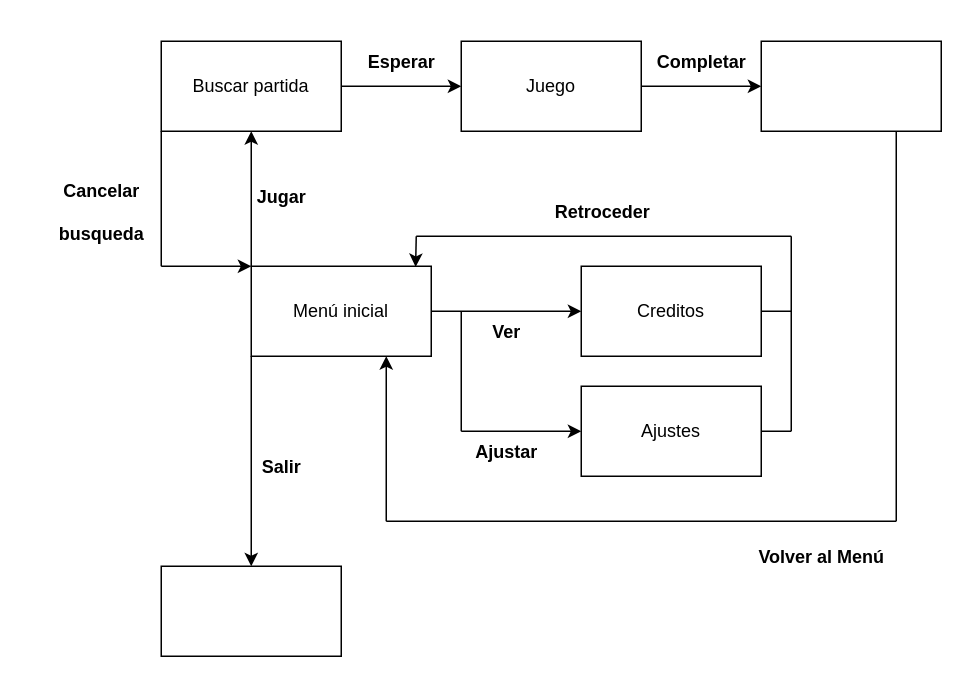
Image size: 968x683. Some labels were removed from this diagram. The shapes that lost their labels are listed below. From the top down, each one's centre as x and y in pixels, then its label:
At pixel 850 85: "Fin del nivel".
At pixel 250 610: "Salir del juego".
